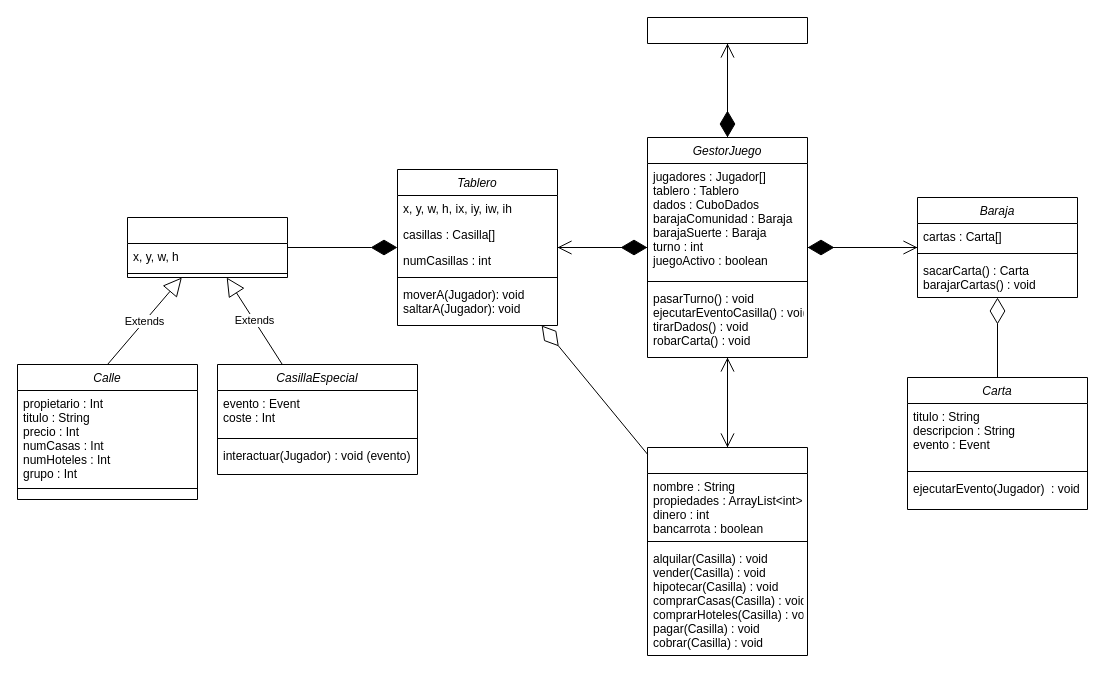
Image size: 1105x676. Some labels were removed from this diagram. Each missing label, with the box of its shape:
Casilla (abstracta): (126, 216, 288, 278)
CuboDados: (646, 16, 808, 44)
Jugador: (646, 446, 808, 656)
